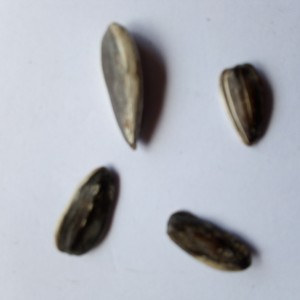girasol: (91, 19, 156, 154), (164, 207, 256, 275), (52, 162, 117, 258), (213, 62, 266, 149)
